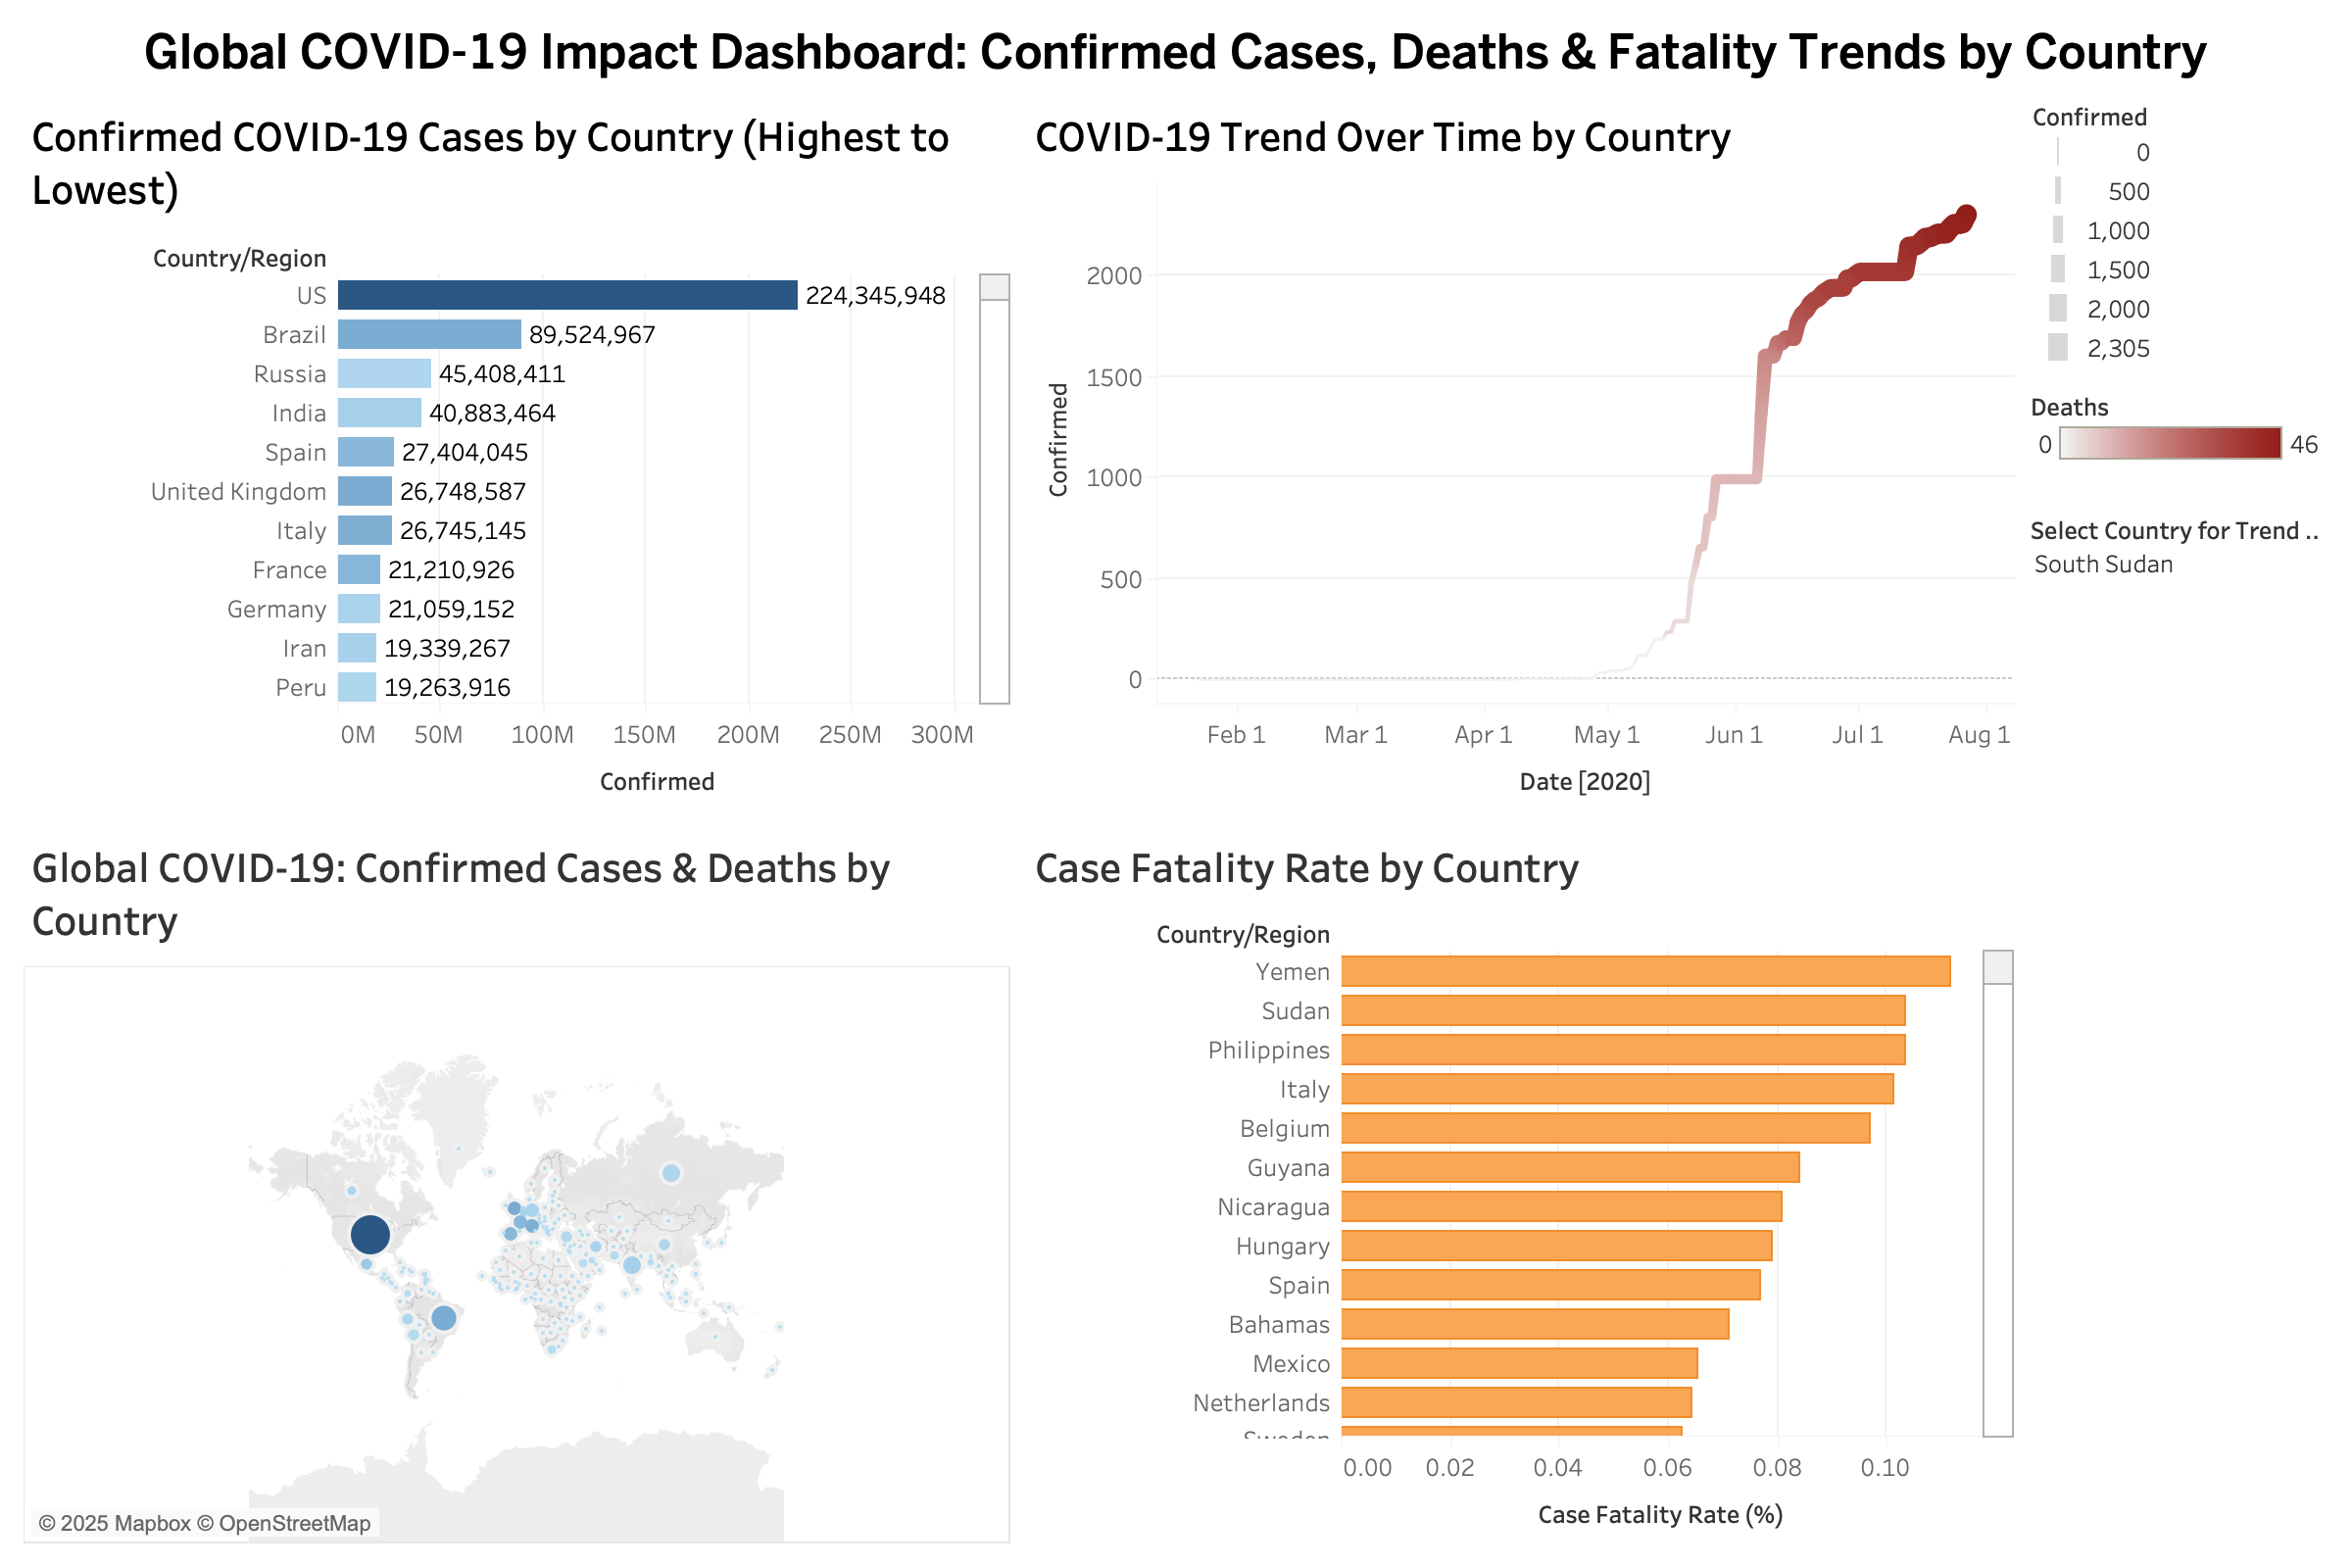

What the dashboard file says about the page in this screenshot:
{"tool":"tableau","page":{"name":"COVID_Insights_2020","canvas":[1200,800],"ordinal":0},"visuals":[{"type":"title","box":[8,8,1184,37]},{"type":"worksheet","title":"Global Rankings","mark":"Bar","rows":["Country/Region"],"cols":["Confirmed"],"box":[8,45,512,373.5]},{"type":"worksheet","title":"Trend Line","mark":"Automatic","rows":["Confirmed"],"cols":["Date"],"box":[520,45,512,373.5]},{"type":"legend","title":"Trend Line","param":"[federated.0lc5e7r192tret1eya8xd0rjpr40].[sum:Confirmed:qk]","box":[1032,45,160,106]},{"type":"legend","title":"Trend Line","param":"[federated.0lc5e7r192tret1eya8xd0rjpr40].[sum:Deaths:qk]","box":[1032,151,160,65]},{"type":"parameter","param":"[Parameters].[Parameter 1]","box":[1032,216,160,52]},{"type":"worksheet","title":"Map view","mark":"Automatic","box":[8,418.5,512,373.5]},{"type":"worksheet","title":"Case Fatality Rate","mark":"Bar","rows":["Country/Region"],"cols":["Calculation_1273674289851670529"],"box":[520,418.5,512,373.5]}]}

Visuals, with their boxes in screenshot pixels (x1, y1, x2, y2), scaled from the page's 1200x800 canvas onto the 2352x1568 screenshot:
title: crop(16, 16, 2336, 88)
"Global Rankings" worksheet (Bar marks): crop(16, 88, 1019, 820)
"Trend Line" worksheet: crop(1019, 88, 2023, 820)
"Trend Line" legend: crop(2023, 88, 2336, 296)
"Trend Line" legend: crop(2023, 296, 2336, 423)
parameter: crop(2023, 423, 2336, 525)
"Map view" worksheet: crop(16, 820, 1019, 1552)
"Case Fatality Rate" worksheet (Bar marks): crop(1019, 820, 2023, 1552)
